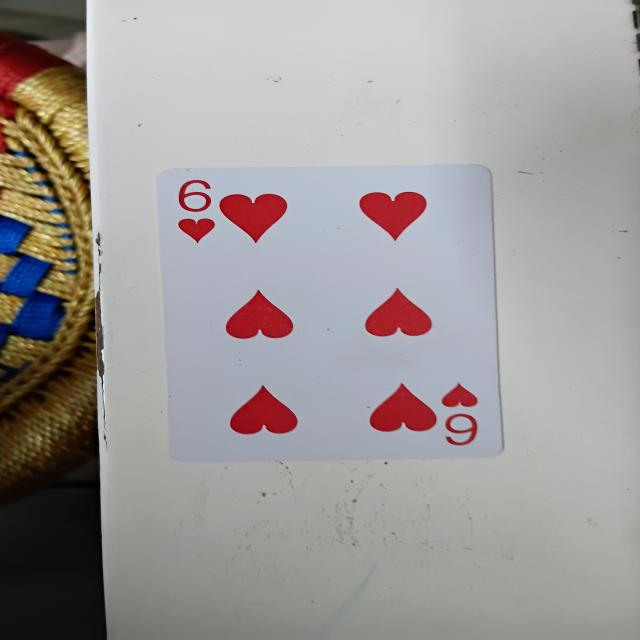6H: (157, 158, 509, 462)
